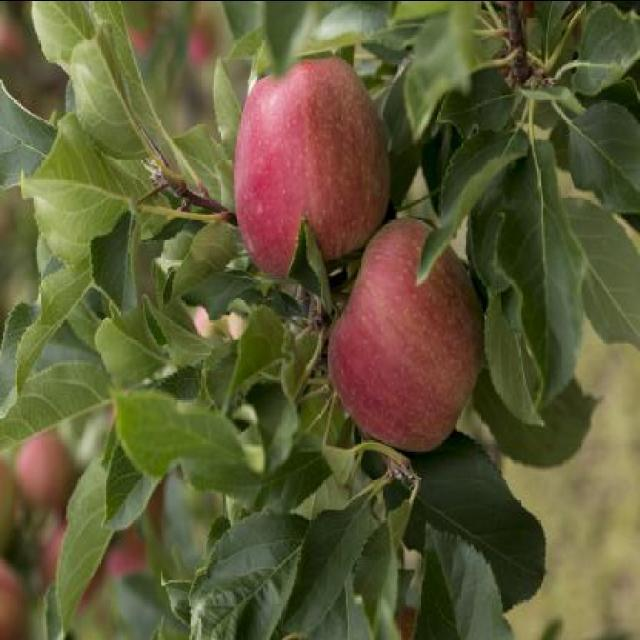Apple pie: (1, 389, 164, 640), (328, 217, 486, 453), (234, 51, 392, 283)
